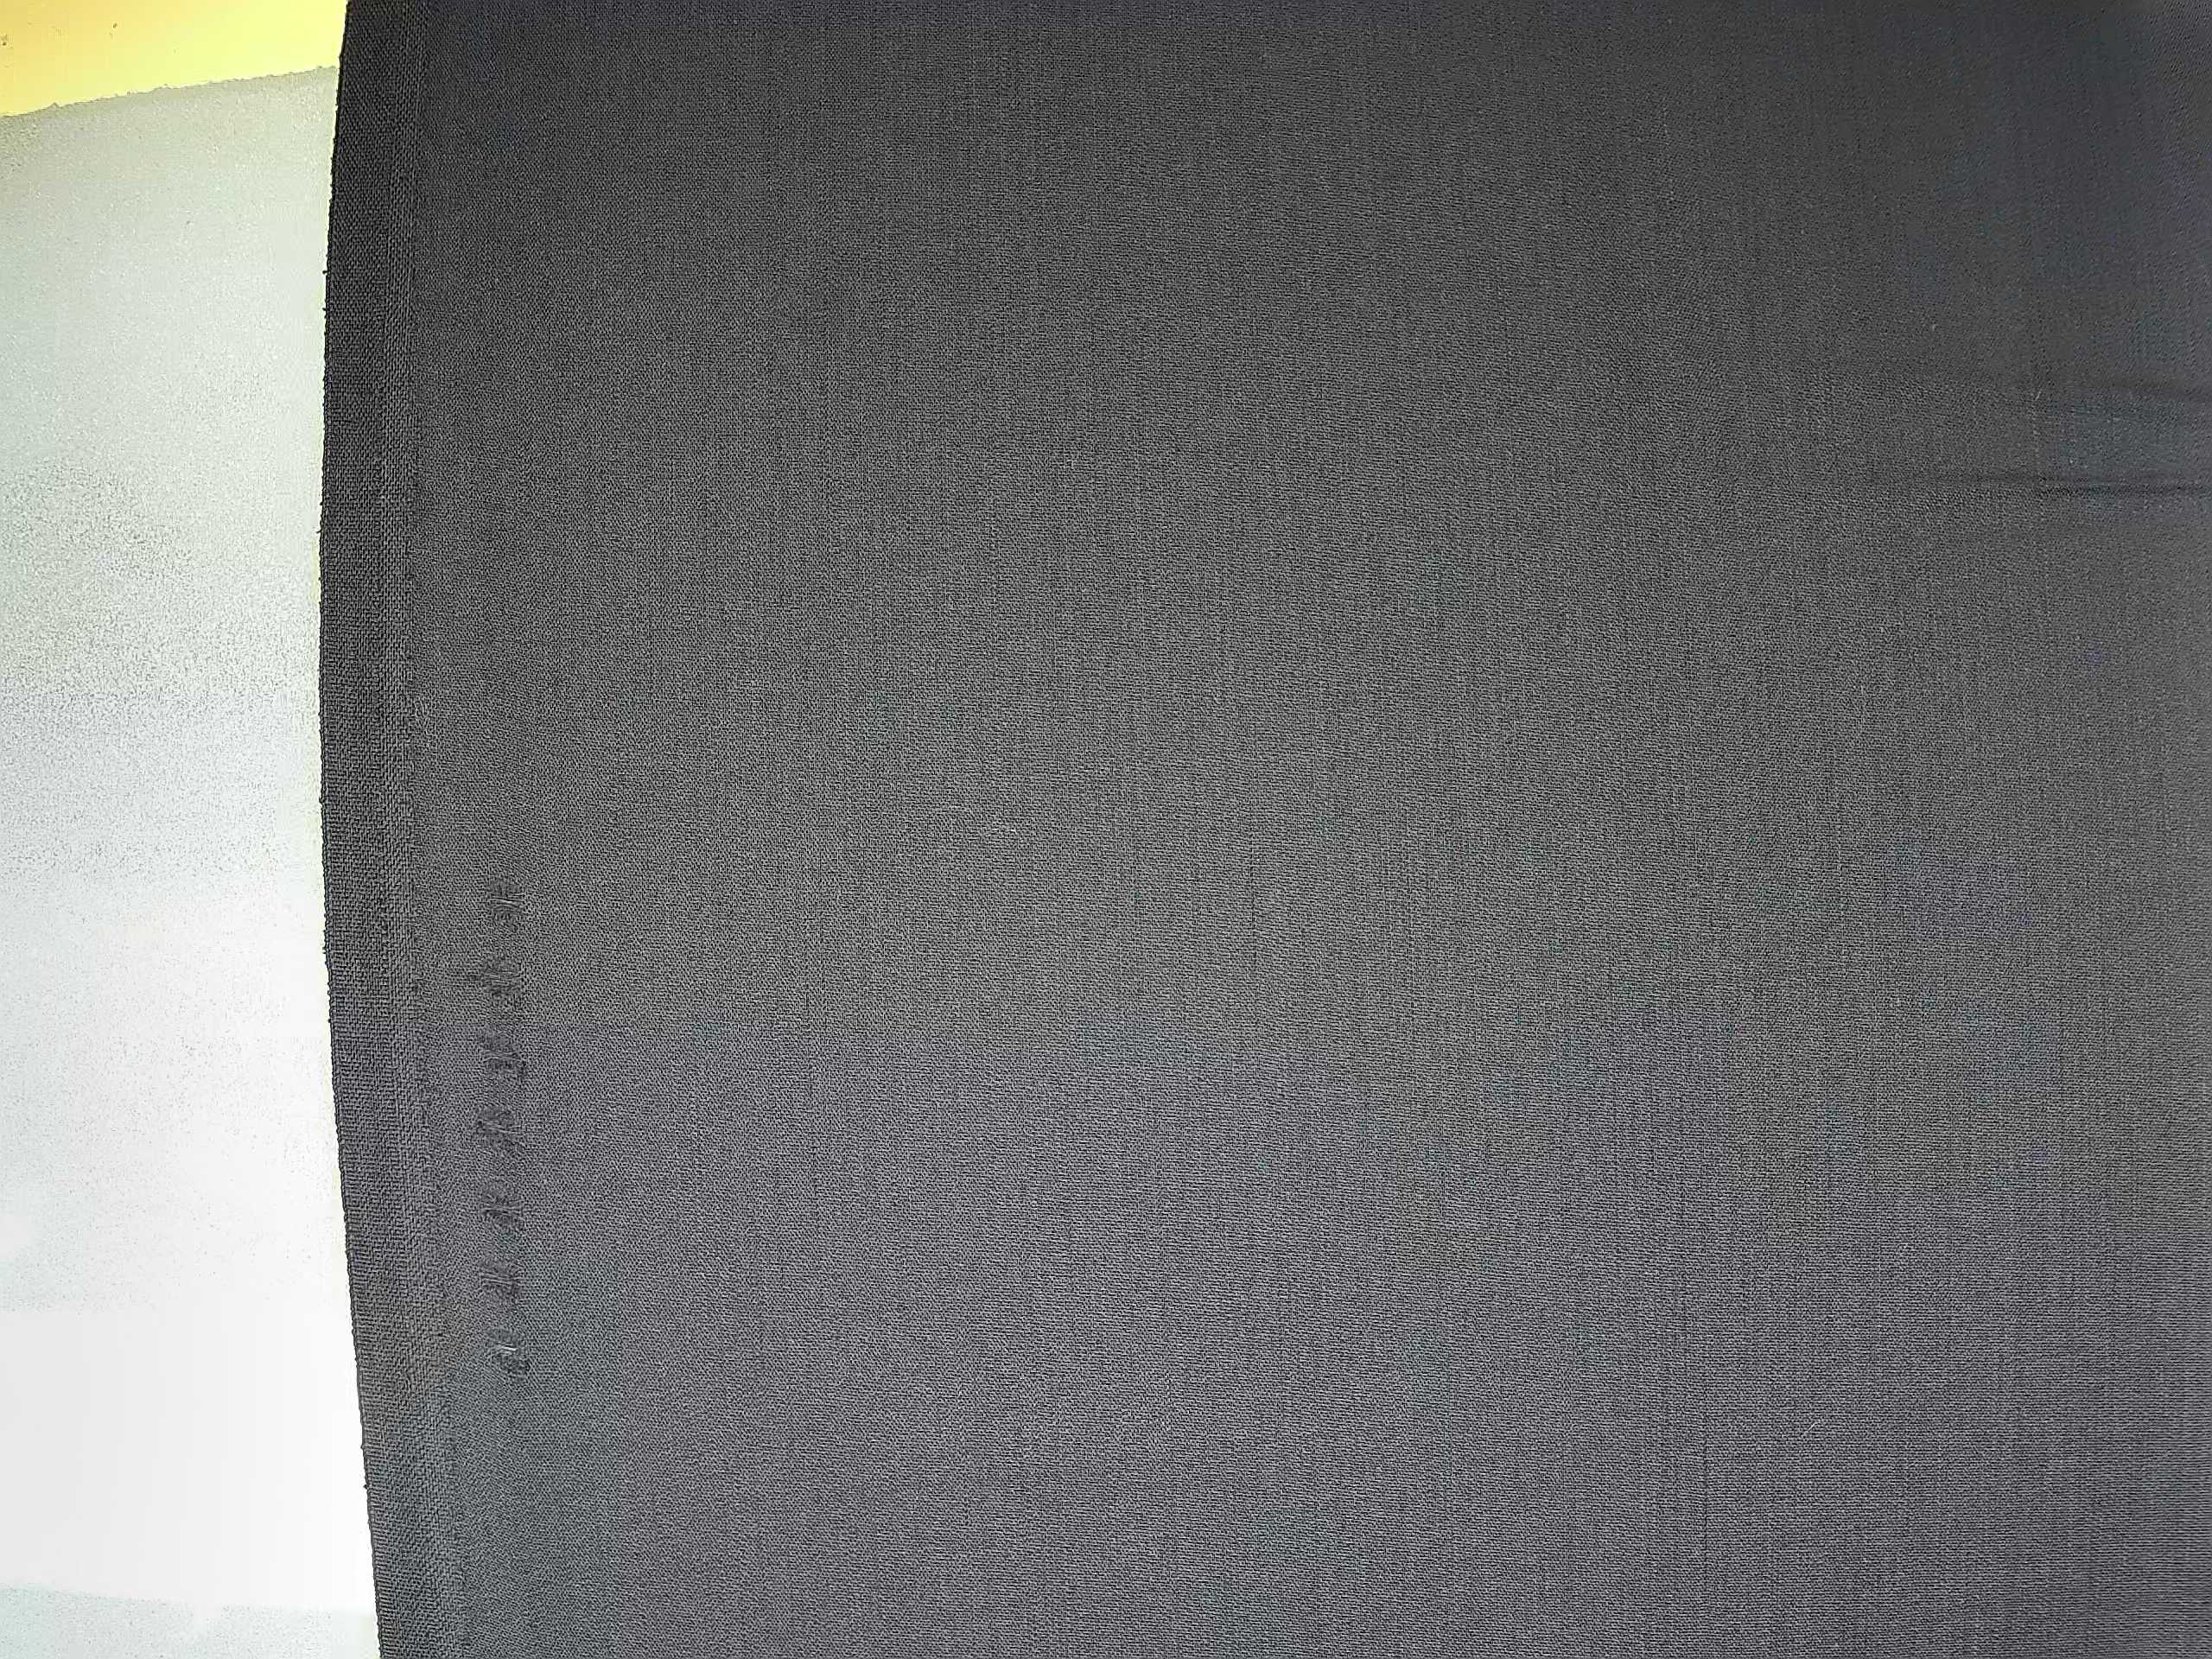rubbing-hole: (456, 863, 556, 1394)
